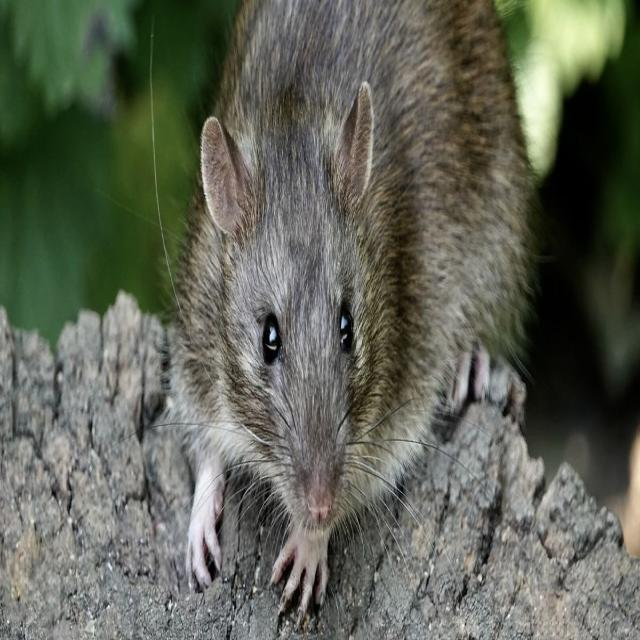rat: (159, 0, 539, 640)
